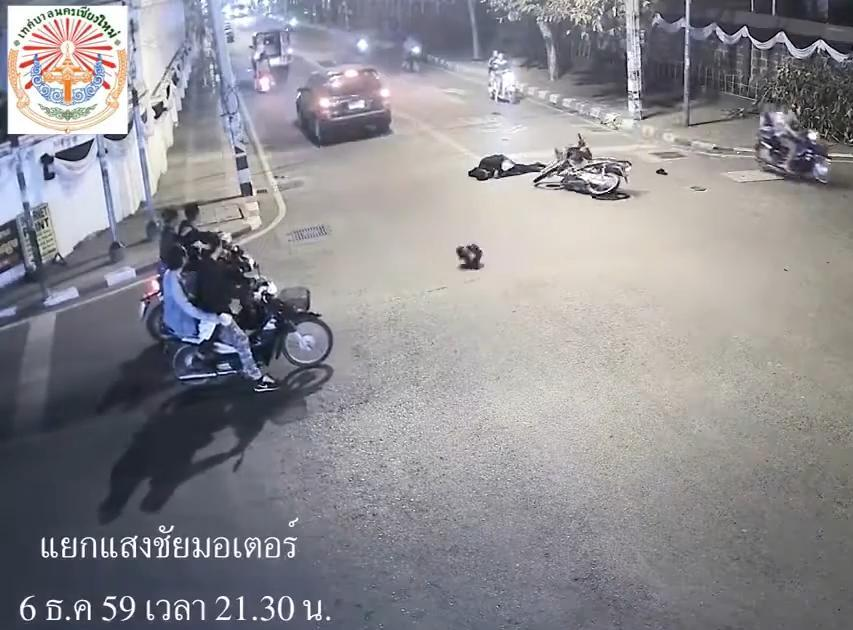accident: (468, 150, 548, 182)
